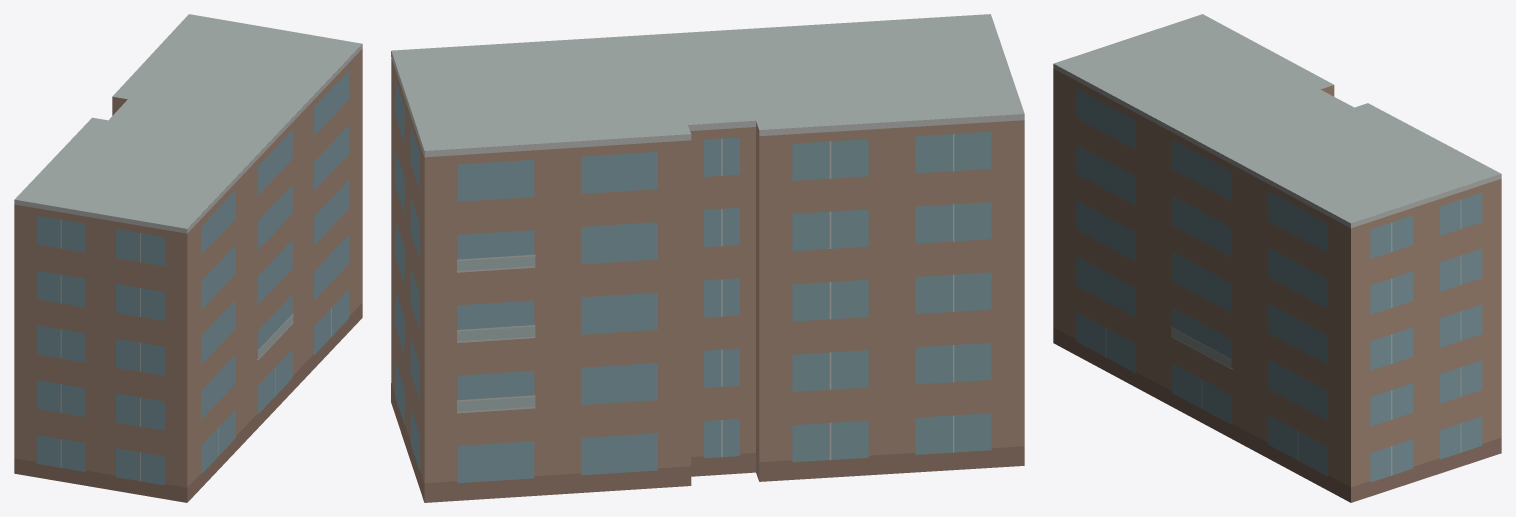
Rendered from survey-upis-33011181.glb.
3 renders of one model, left to right at view 1: azimuth 30°, elevation 25°; view 2: azimuth 150°, elevation 25°; view 3: azimuth 270°, elevation 25°, orthographic. The views are drawn at different scales.
Parts seen in each view (by area): view 1: survey-upis-33011181.tmp; view 2: survey-upis-33011181.tmp; view 3: survey-upis-33011181.tmp.
Part boxes in pixels (x1,y1,x2,y2): survey-upis-33011181.tmp: (14, 14, 362, 502); survey-upis-33011181.tmp: (391, 14, 1024, 502); survey-upis-33011181.tmp: (1053, 14, 1501, 502).
Bounding box in the file's own units: 22.35 × 13.9 × 20.21.
